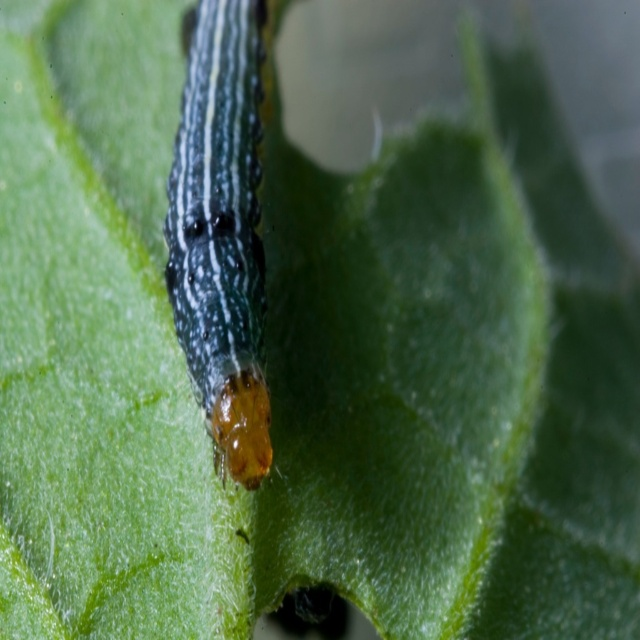Caterpillar: (159, 0, 273, 493)
